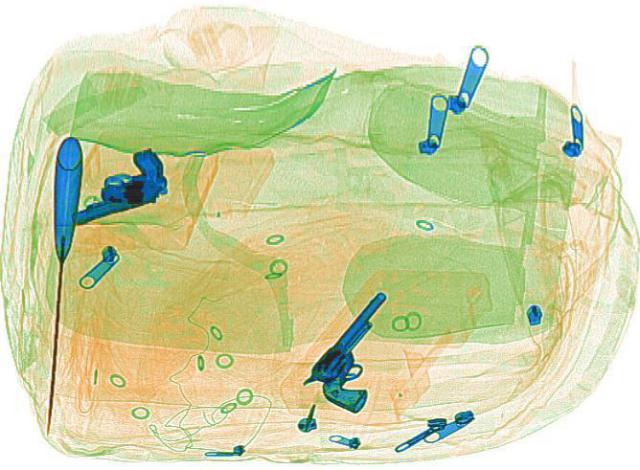Gun: (291, 288, 443, 411), (47, 145, 183, 222)
Knife: (32, 134, 84, 433)
